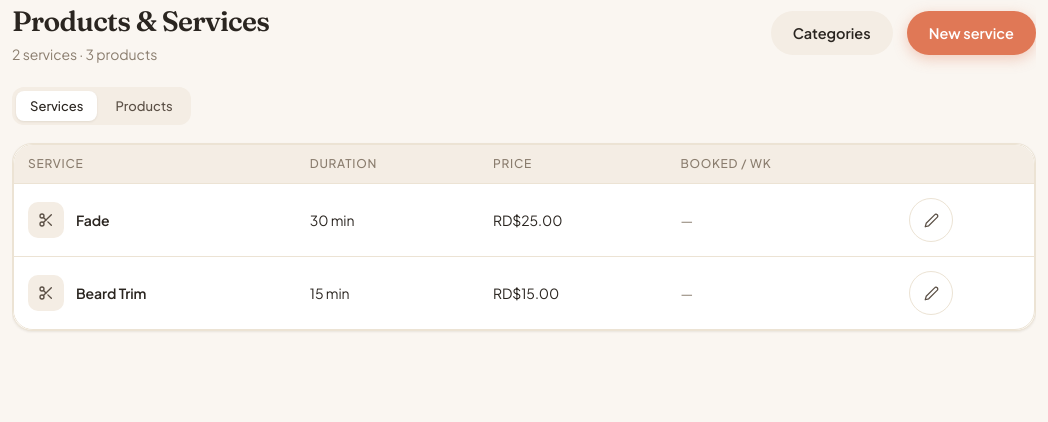
Catalog › switching to Products tab shows product rows with SKU codes
expect the text "Fade" is shown: met, box [76,210,110,230]
What coordinates should you click on to do the following:
click the tab "Products"
I would click on:
 (144, 106)
Its box is [101,91,187,121].
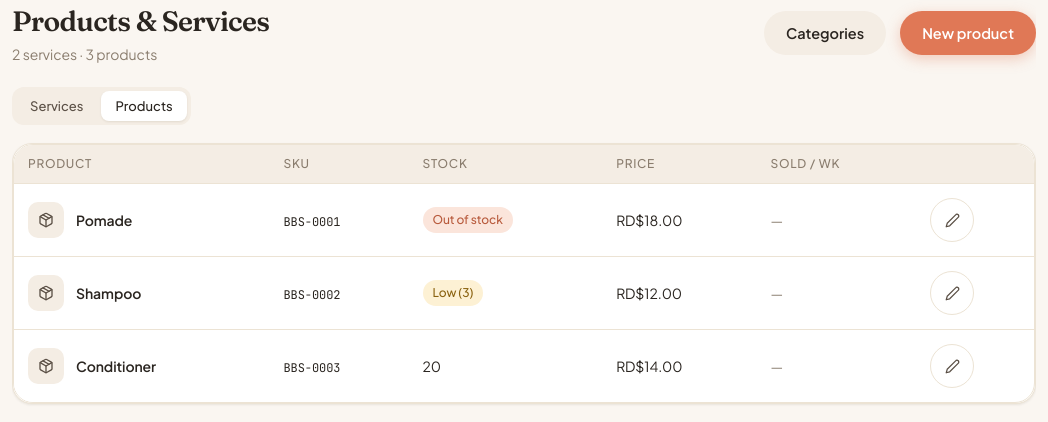
expect the text "Pomade" is shown: met, box [76,210,132,230]
expect the text "BBS-0001" is shown: met, box [284,214,340,230]
expect the text "Conditioner" is shown: met, box [76,356,156,376]
